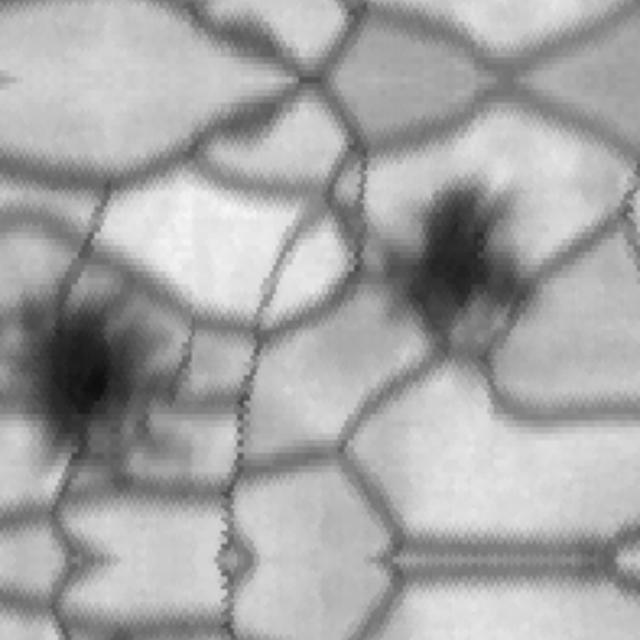good_void: (360, 162, 609, 366), (5, 282, 239, 496), (196, 84, 298, 157), (196, 4, 298, 77)
